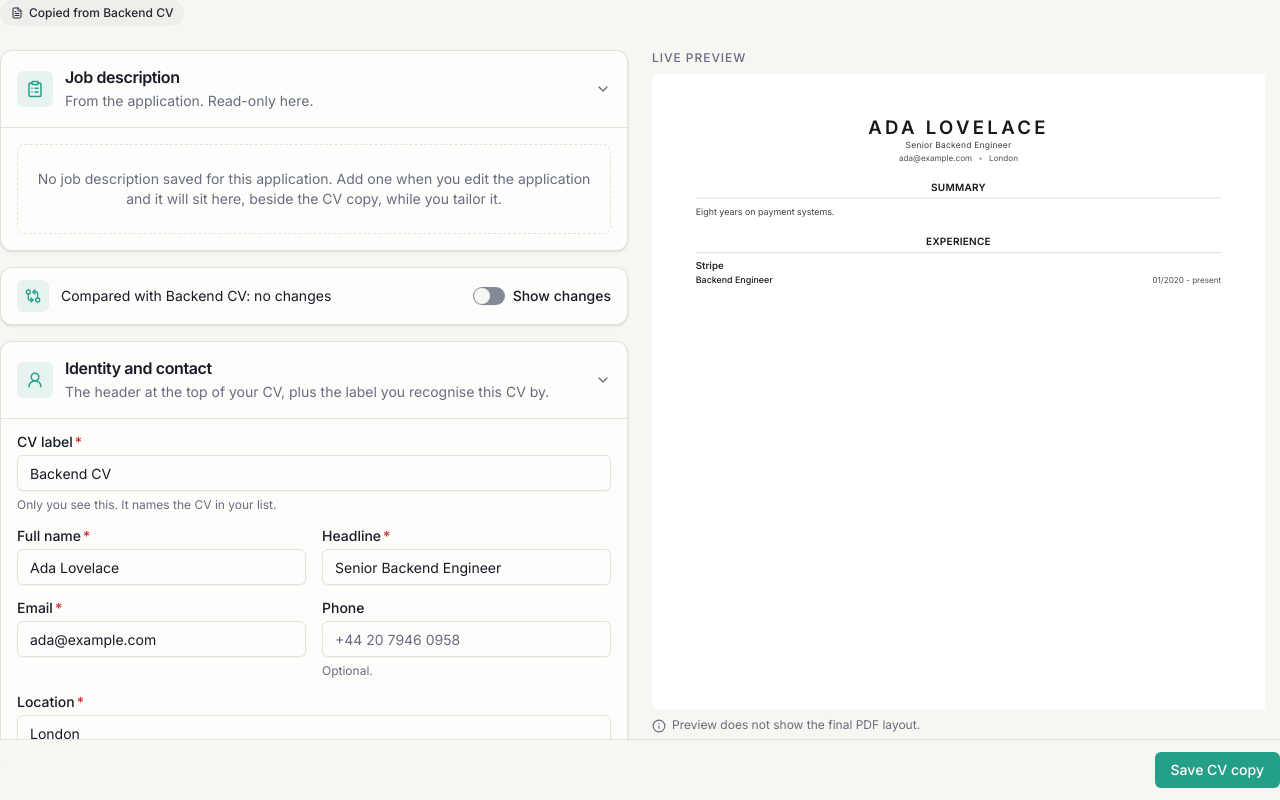
Test: the diff UI › Revert puts the original value back and clears the marker
Click the switch named "Show changes" at (489, 296), box [473,287,505,305]
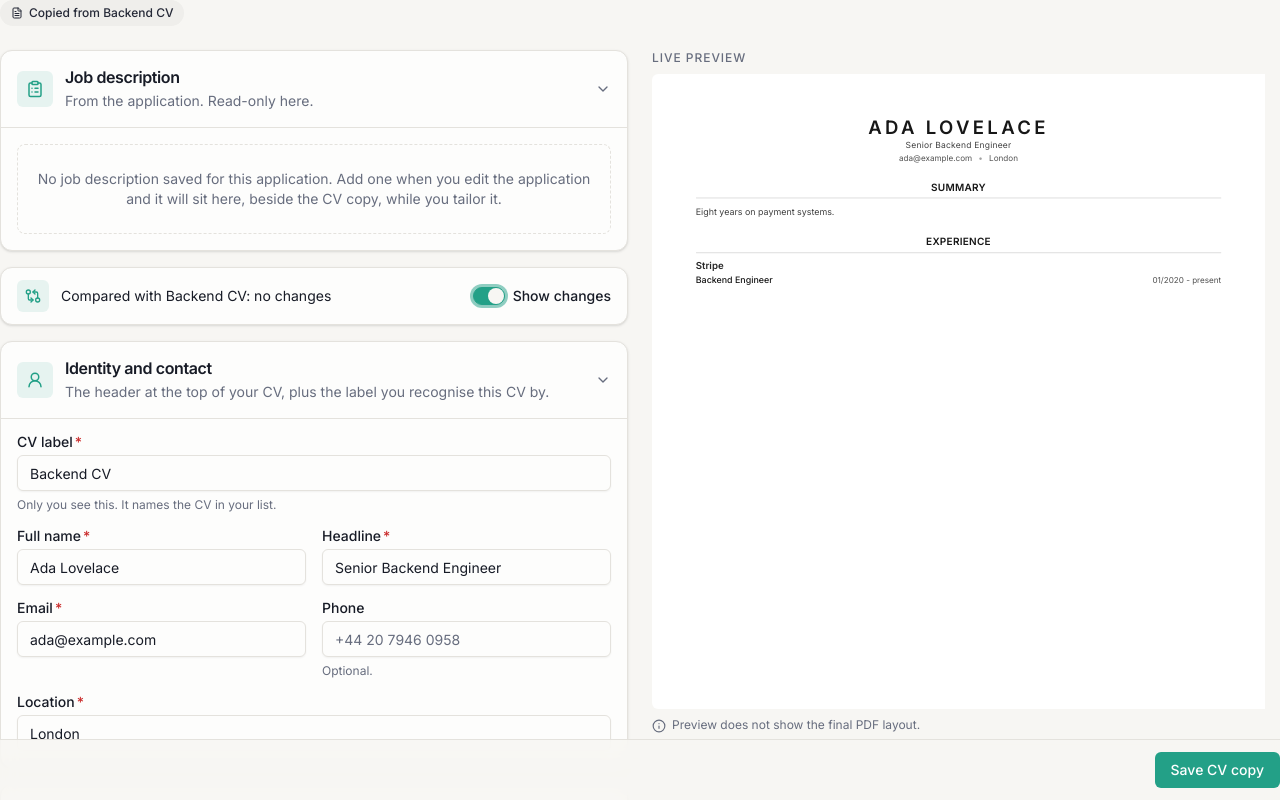
Clear the field labelled "Headline" at (466, 567), box [322,549,611,585]
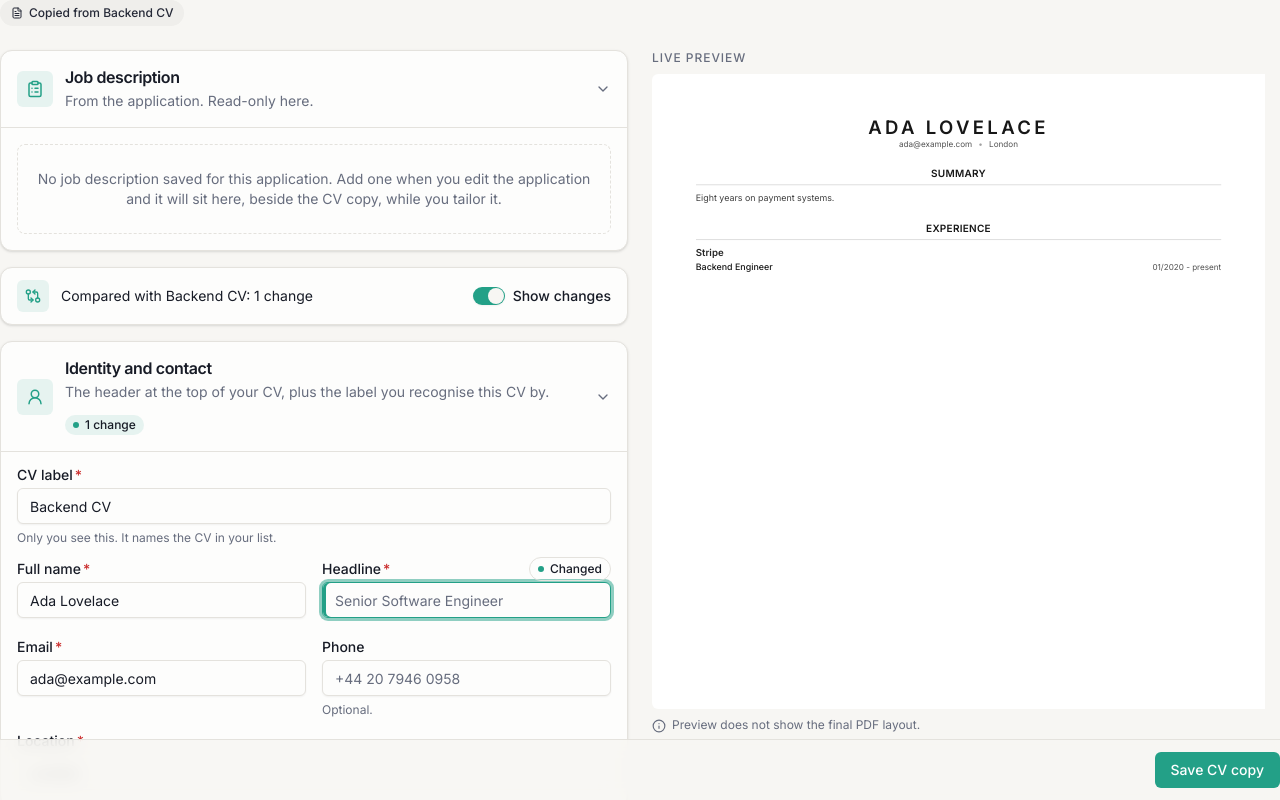
Type "Staff Engineer" into the field labelled "Headline" at (466, 600), box [322,582,611,618]
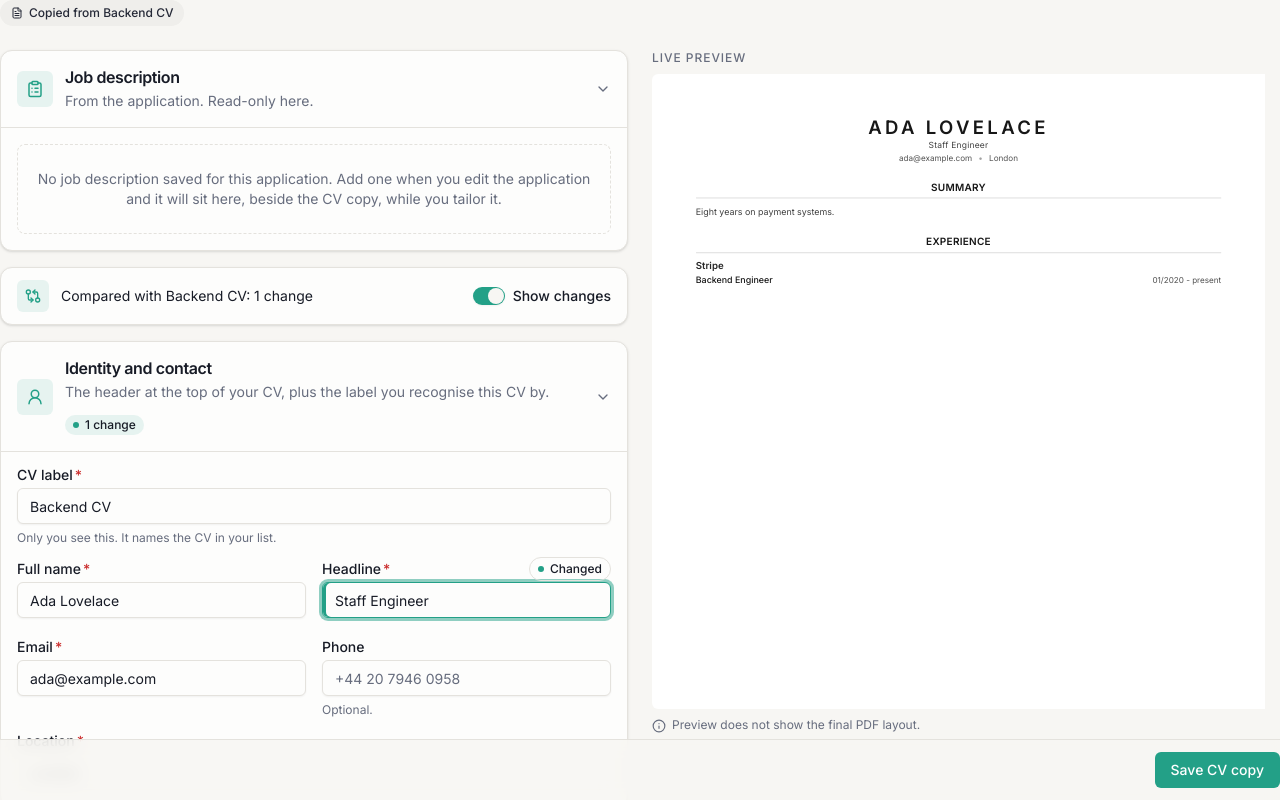
Click the button with aria-label "Changed: Headline" at (570, 569), box [529,557,611,581]
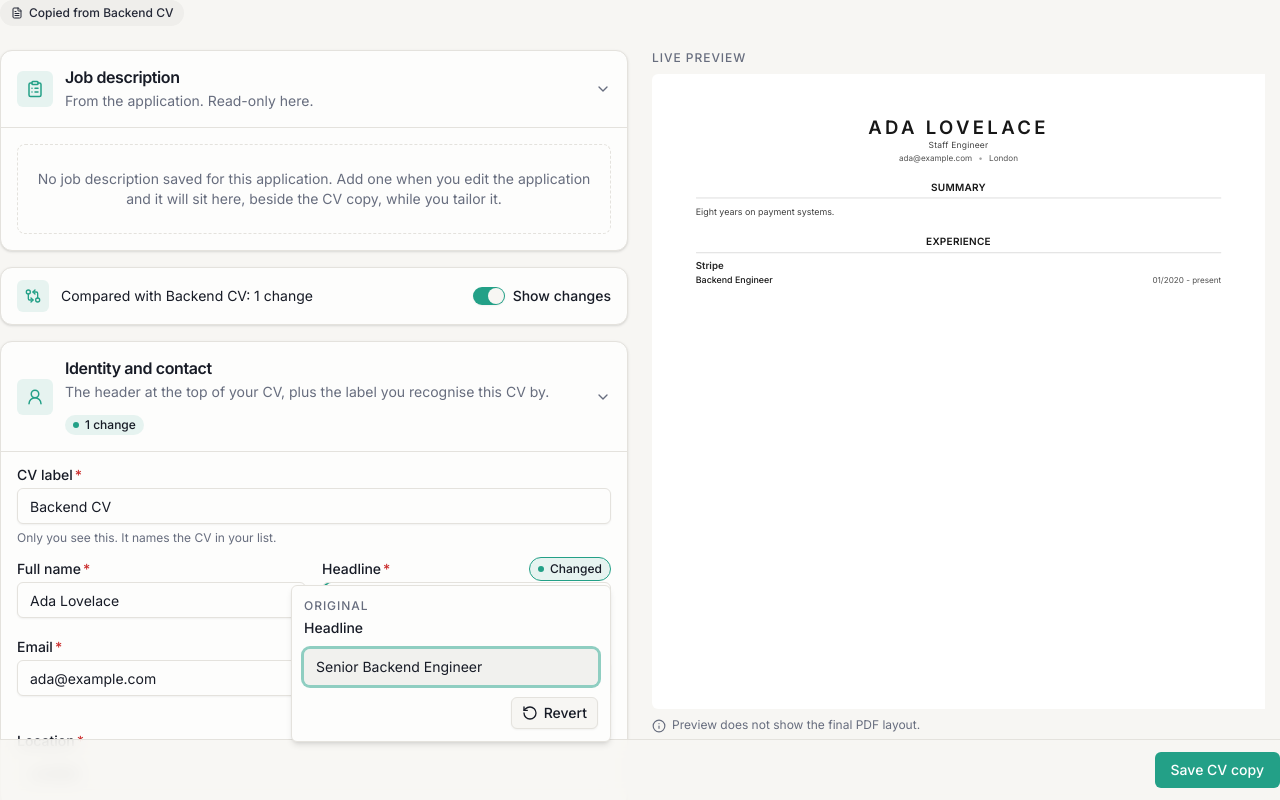
Click the button with aria-label "Revert Headline" at (554, 713), box [511,697,598,729]
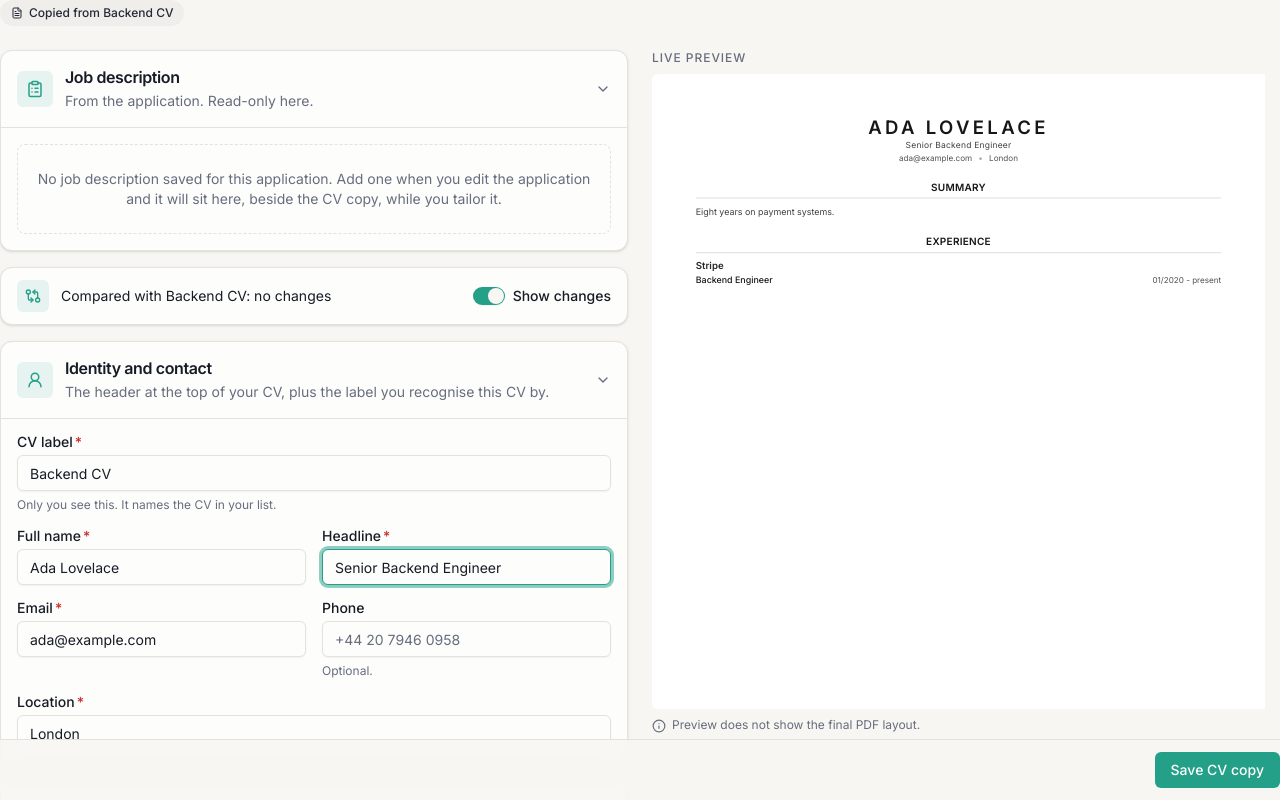
Now the field labelled "Headline" holds "Senior Backend Engineer", box [322,549,611,585]
Now the text "Compared with Backend CV: no changes" is shown, box [61,286,331,306]
